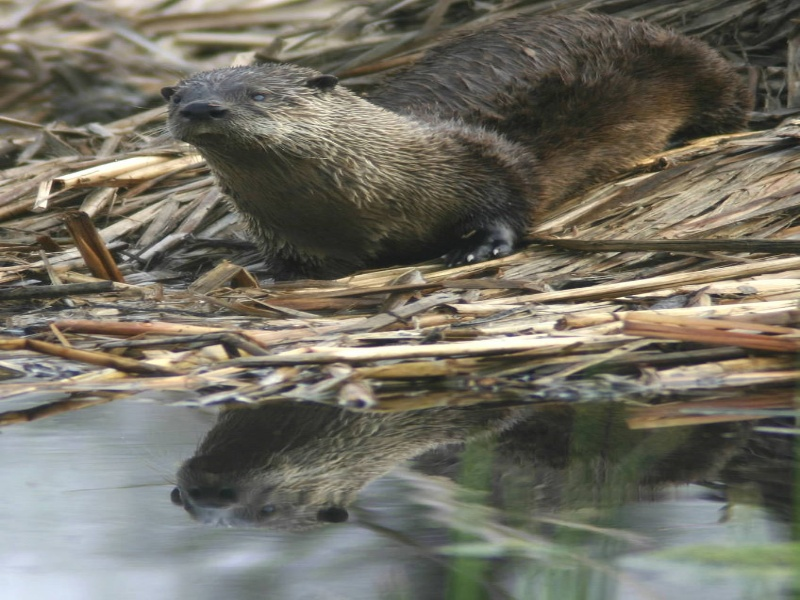minkish: (165, 14, 763, 265)
